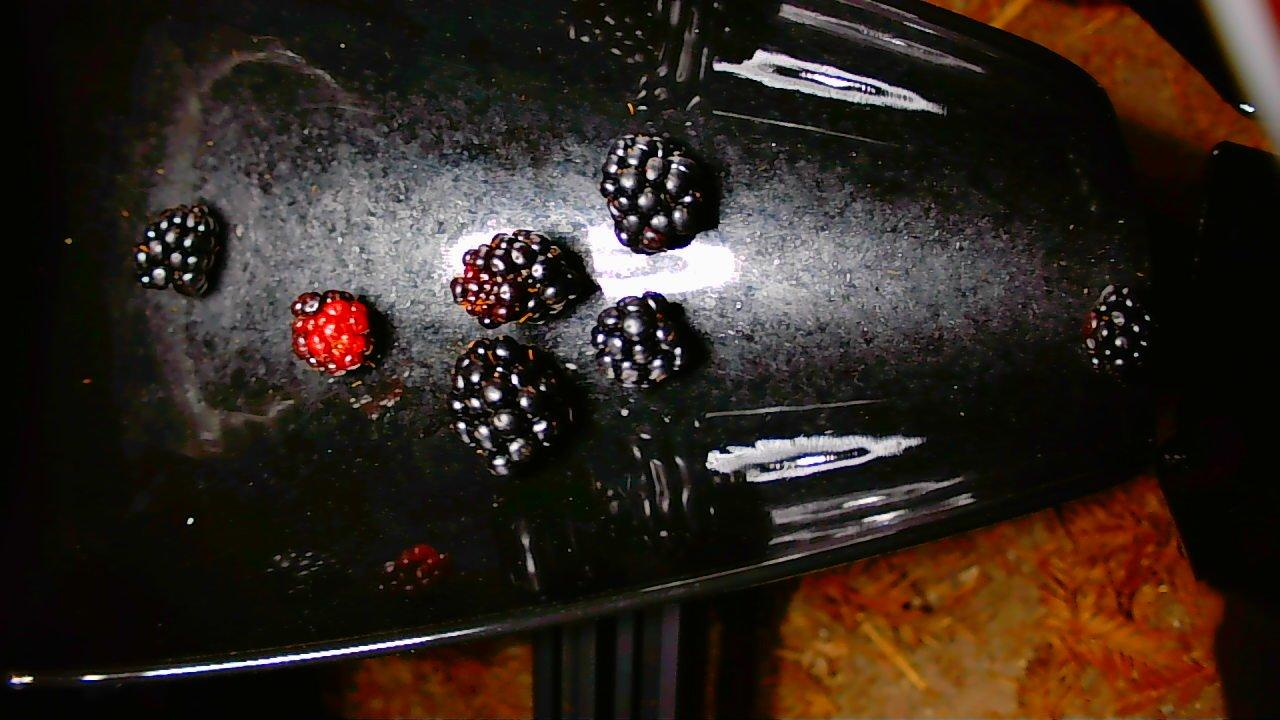berry: (449, 337, 571, 475), (450, 230, 587, 328), (599, 135, 710, 253), (590, 292, 689, 386), (134, 205, 220, 296), (291, 290, 373, 375), (1084, 285, 1153, 376)
